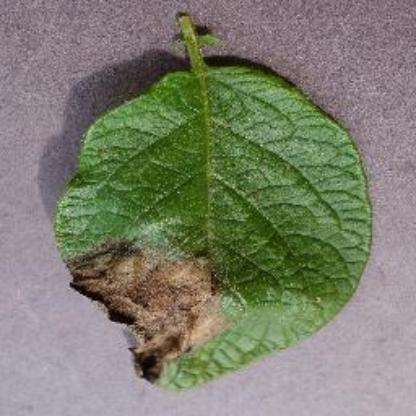Late-Blight: (52, 12, 380, 392)
